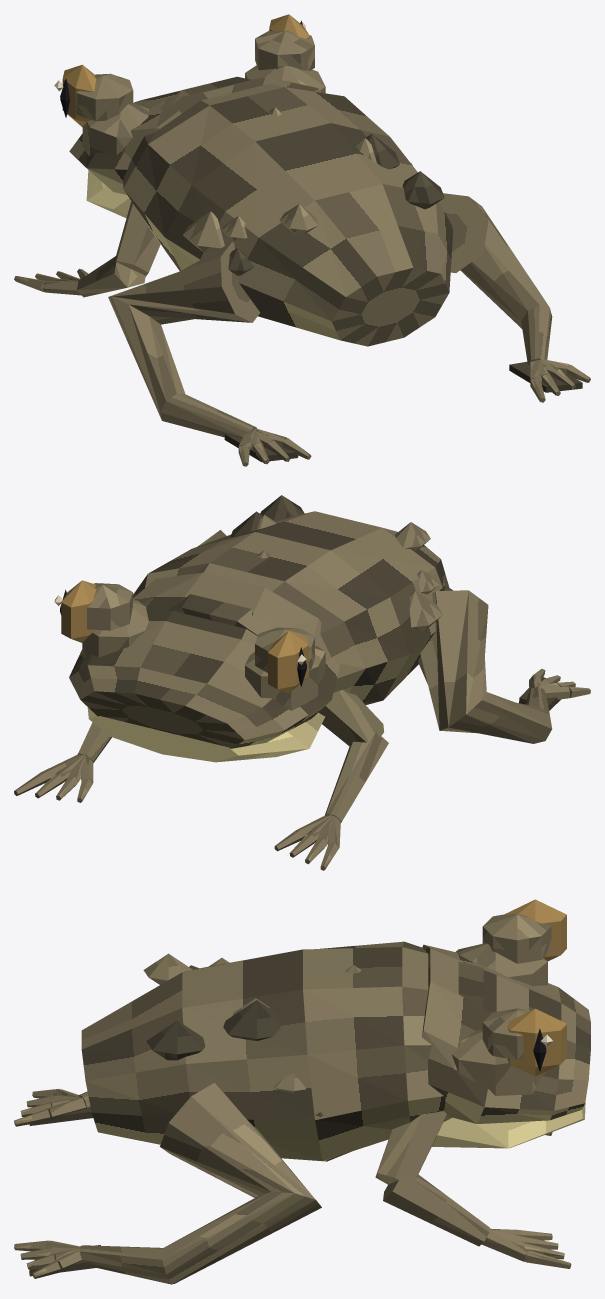
File: mon_spade_frog.glb
3 renders of one model, top to bottom at view 1: azimuth 30°, elevation 25°; view 2: azimuth 150°, elevation 25°; view 3: azimuth 270°, elevation 25°, orthographic. The views are drawn at different scales.
Parts seen in each view (by area): view 1: closed_body; view 2: closed_body; view 3: closed_body.
Part boxes in pixels (left/top/right/bottom): closed_body: left=14, top=14, right=590, bottom=466; closed_body: left=14, top=495, right=590, bottom=870; closed_body: left=14, top=899, right=590, bottom=1284.
Bounding box in the file's own units: 0.1304 × 0.0693 × 0.1535.
Materials: 1 (1 with a texture image).
